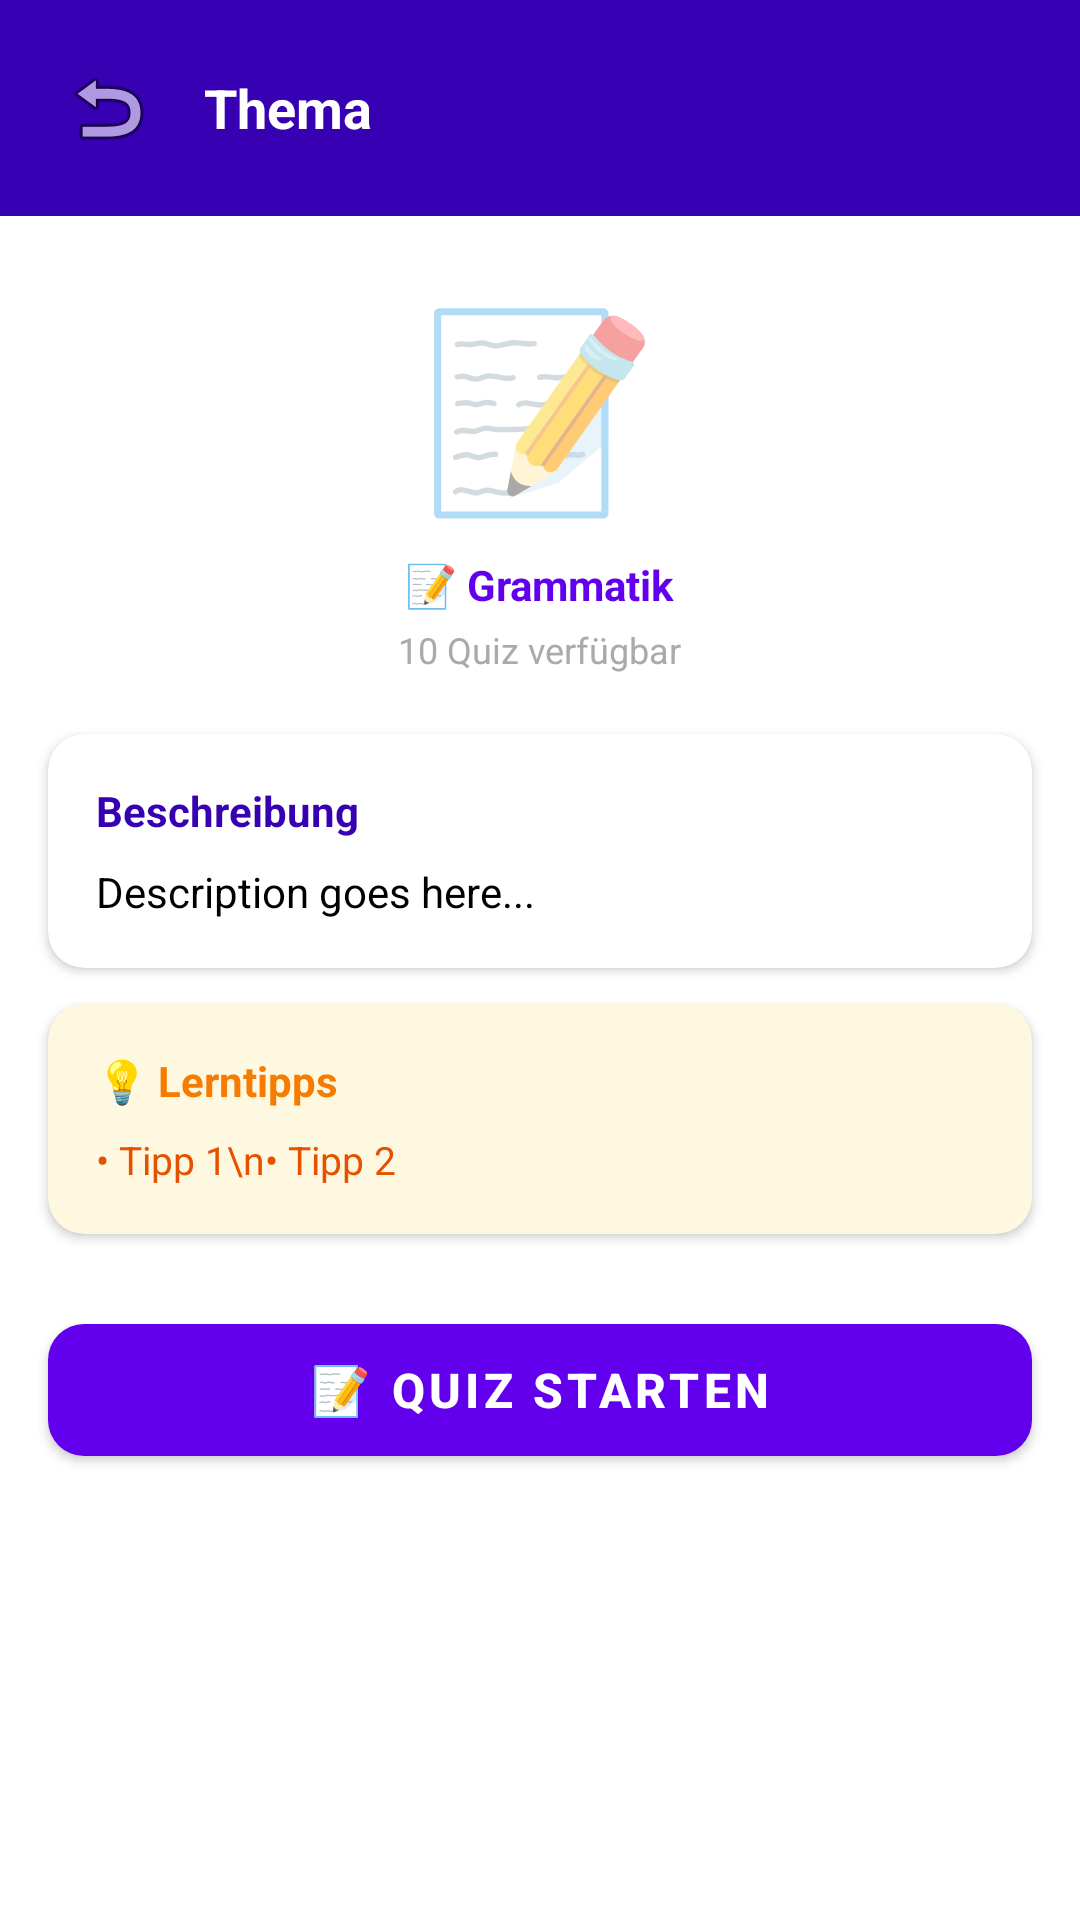

Icons on this 1080 × 1920 Android screen, each with the point to tap as (x=x, y=y):
Zurück: (x=109, y=108)
